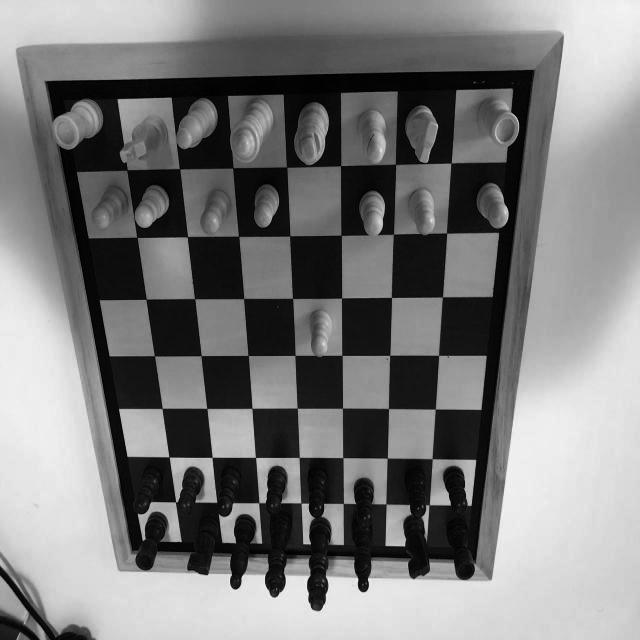chess-table-corners: (39, 71, 61, 102), (521, 59, 543, 87), (466, 548, 484, 574), (125, 543, 137, 567)
